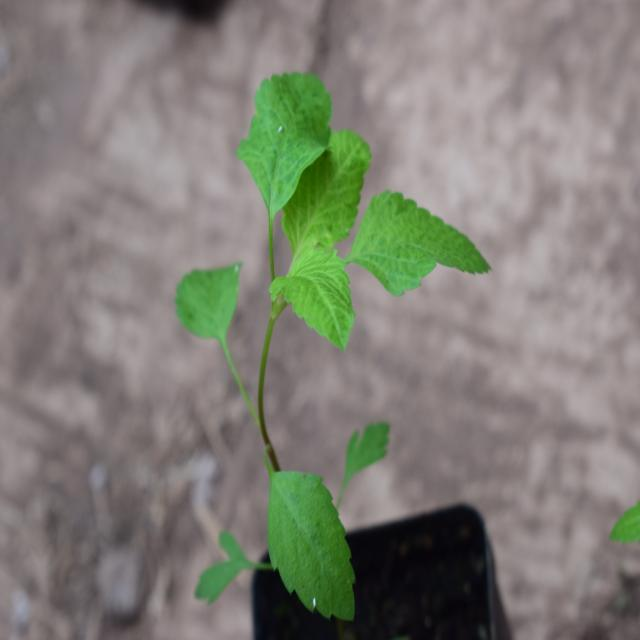Bidens pilosa: (171, 68, 475, 594)
